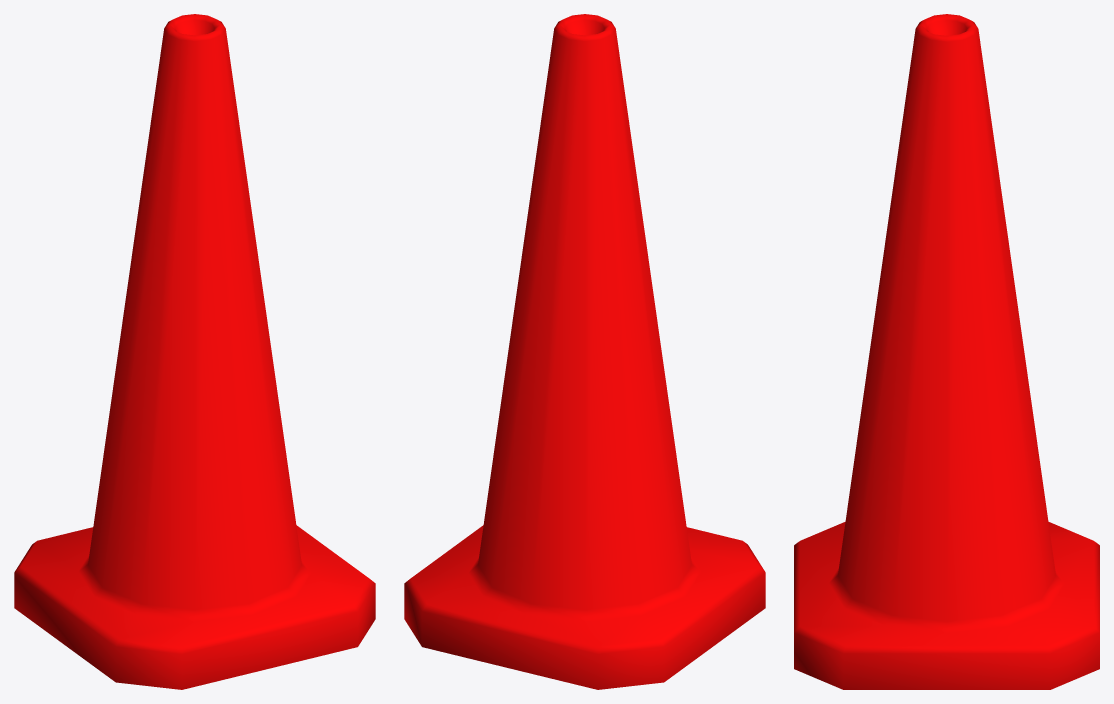
The model's file is construction_cone.dae.
The picture shows the model from 3 angles, left to right: view 1: azimuth 30°, elevation 25°; view 2: azimuth 150°, elevation 25°; view 3: azimuth 270°, elevation 25°; orthographic projection.
Parts seen in each view (by area): view 1: Box001; view 2: Box001; view 3: Box001.
Part boxes in pixels (x1,y1,x2,y2): Box001: (14, 14, 375, 689); Box001: (404, 14, 765, 689); Box001: (794, 14, 1099, 689).
Size of the model in its own units: 1.98 by 1.98 by 4.29.
Materials: 1 (1 with a texture image).
